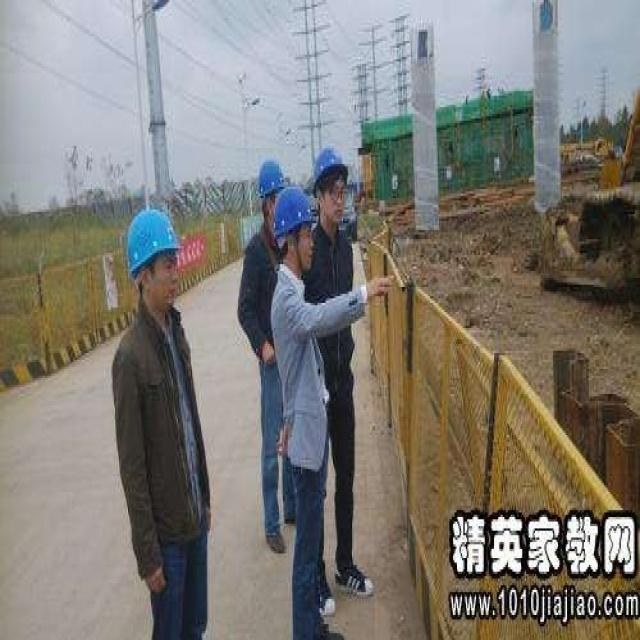helmet: (122, 267, 183, 416), (274, 244, 315, 363), (312, 199, 348, 301), (255, 220, 286, 301)
